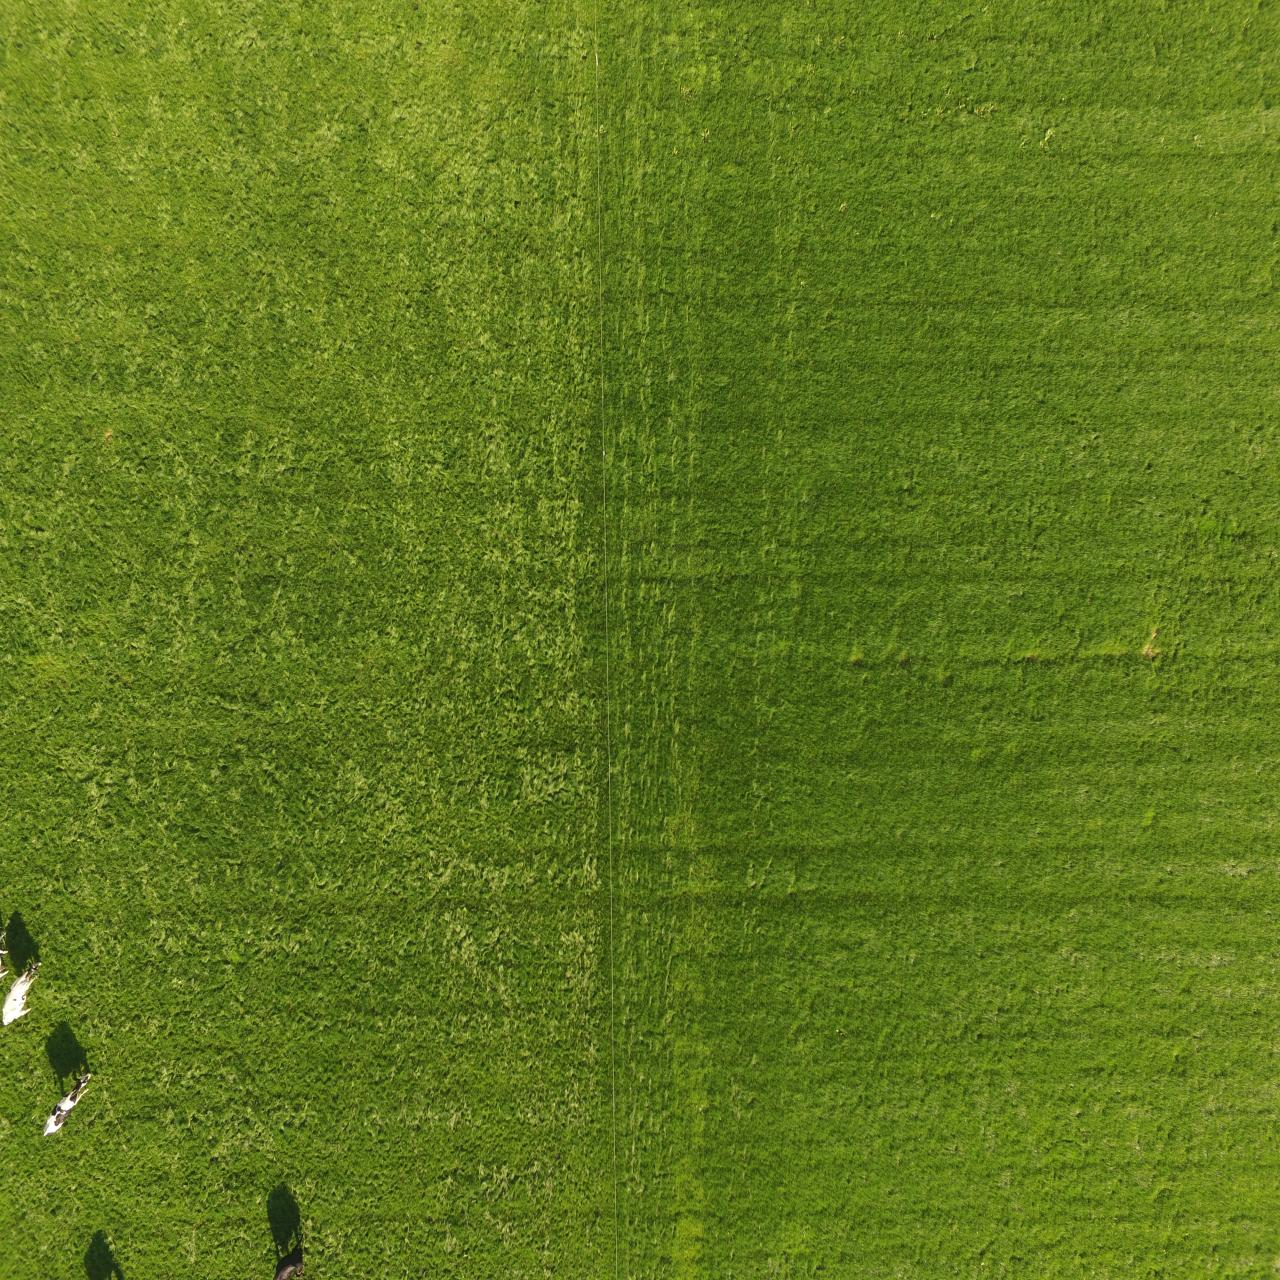cow: (36, 1065, 101, 1148), (0, 952, 49, 1035)
